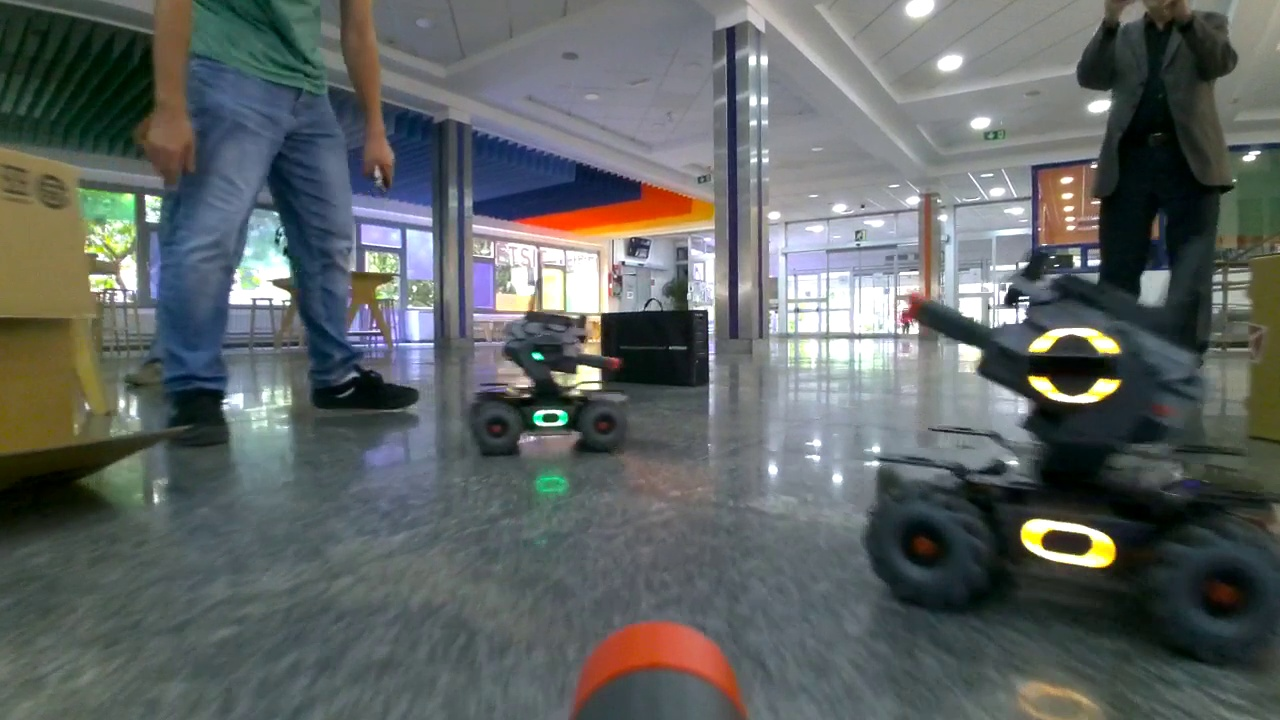robot: (865, 276, 1277, 670), (469, 319, 629, 457)
